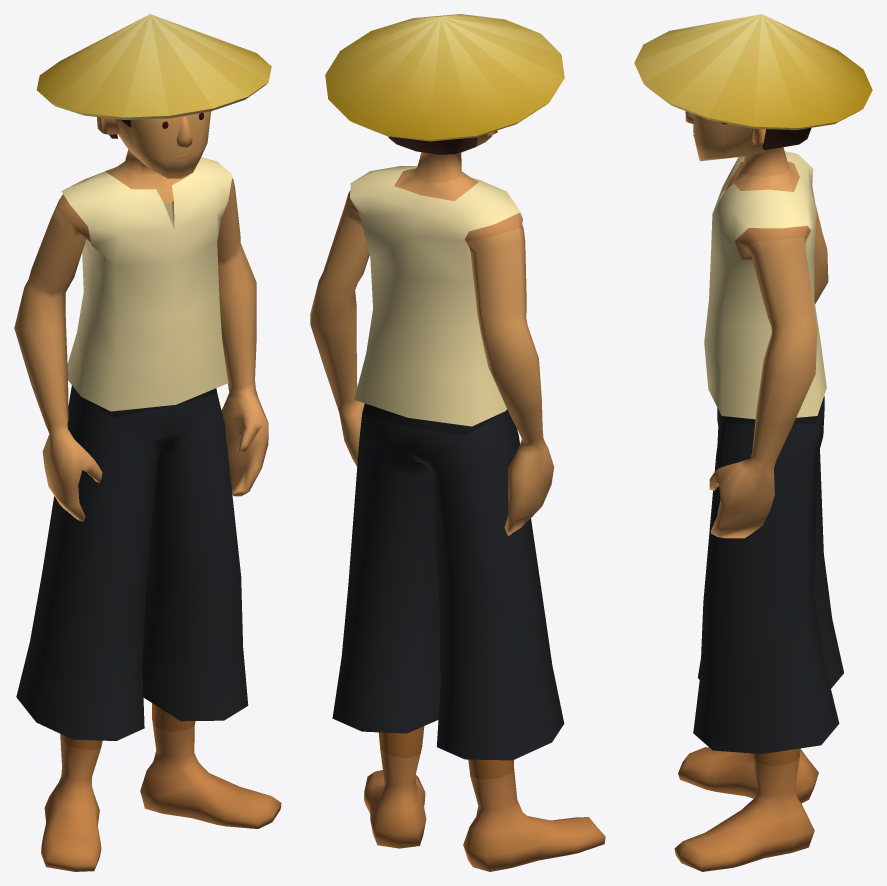
The model's file is SM_BG_NPC_04.fbx.
3 renders of one model, left to right at view 1: azimuth 30°, elevation 25°; view 2: azimuth 150°, elevation 25°; view 3: azimuth 270°, elevation 25°, orthographic.
Parts seen in each view (by area): view 1: SM_BG_NPC_04; view 2: SM_BG_NPC_04; view 3: SM_BG_NPC_04.
Boxes of the visible parts, left/top/right/bottom form: SM_BG_NPC_04: left=14, top=14, right=281, bottom=871; SM_BG_NPC_04: left=310, top=14, right=605, bottom=871; SM_BG_NPC_04: left=634, top=14, right=872, bottom=871.
Size of the model in its own units: 0.5742 by 1.79 by 0.4752.
